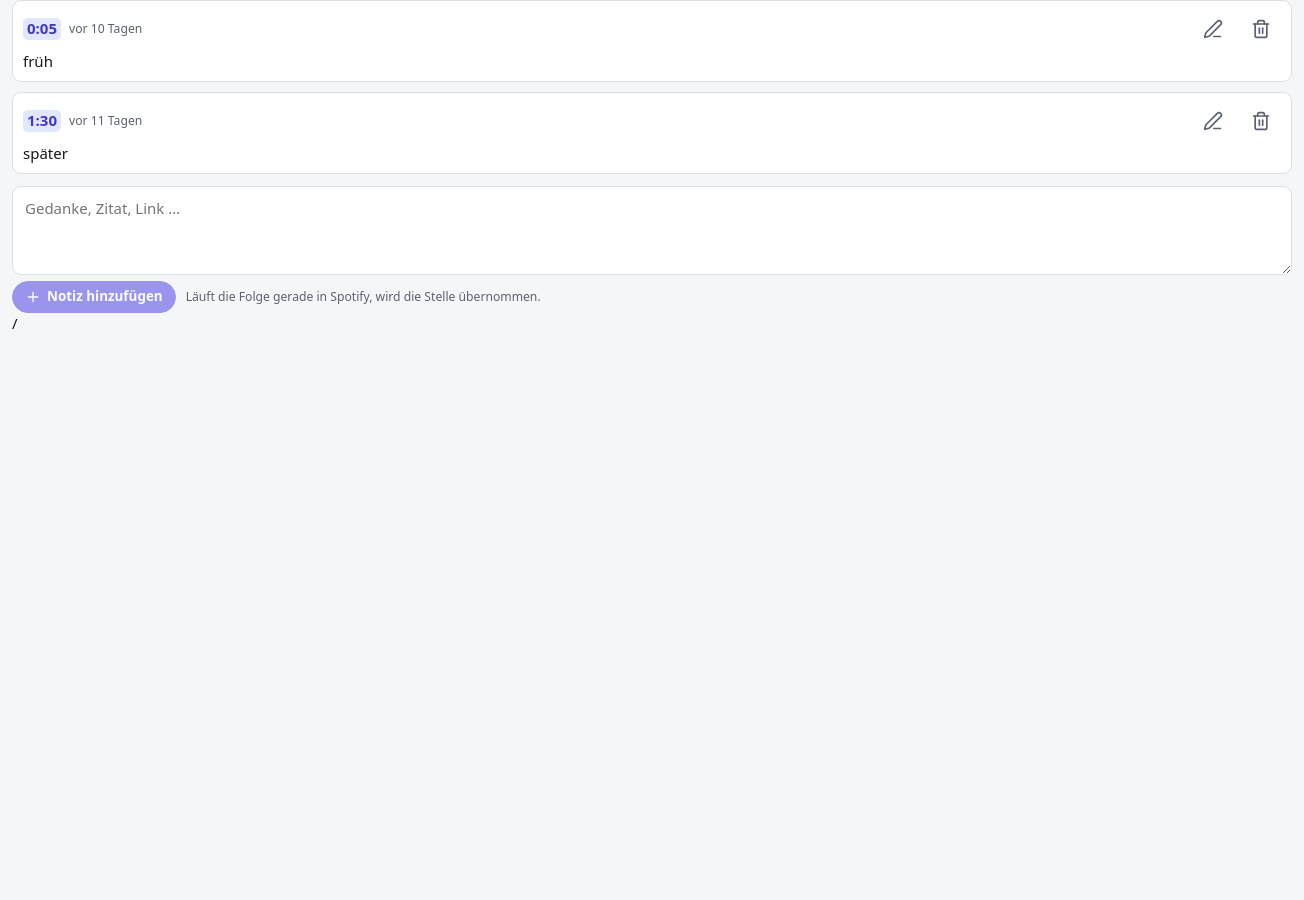
Test: EpisodeNotes › deletes a single note and can undo it
This screenshot has width=1304, height=900.
Expected: the text "später" is shown, [23, 143, 68, 163]
Click the button named "Notiz löschen" in the row of "vor 10 Tagen" at (1261, 29), box [1241, 9, 1281, 49]
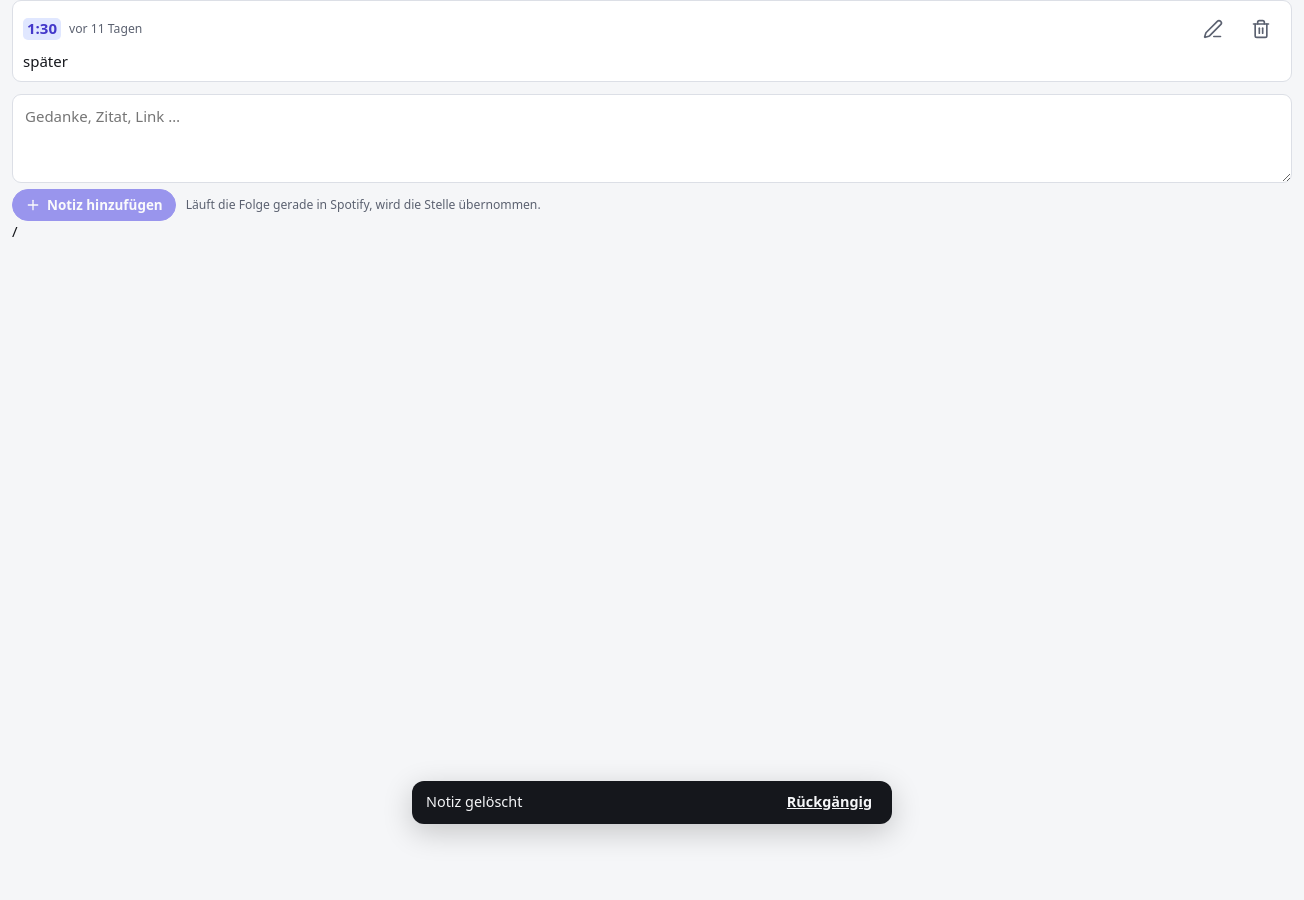
Now the text "Notiz gelöscht" is shown, box [426, 792, 522, 811]
Click the button "Rückgängig" at (829, 803), box [781, 791, 878, 814]
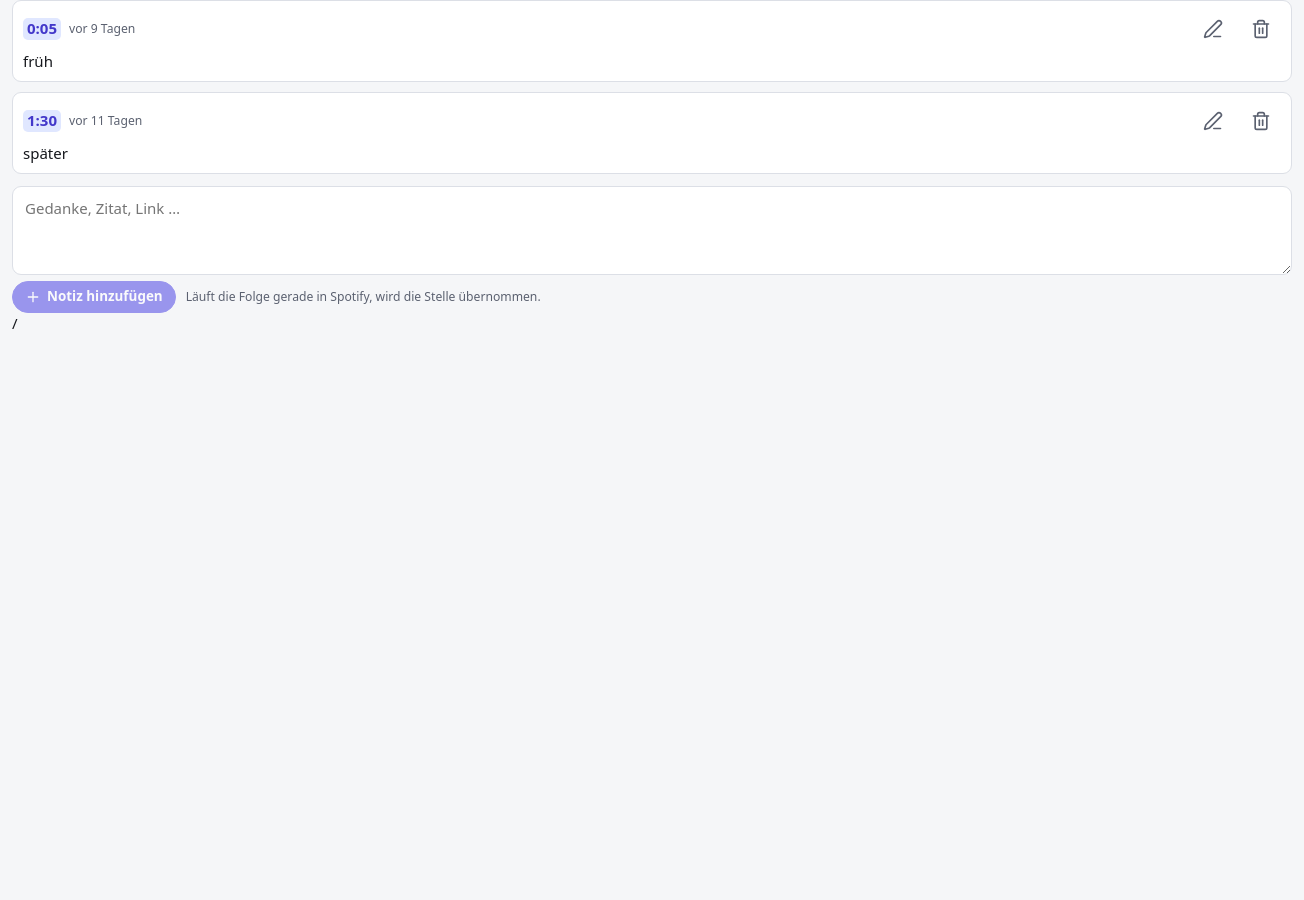
Now the text "früh" is shown, box [23, 51, 53, 71]
